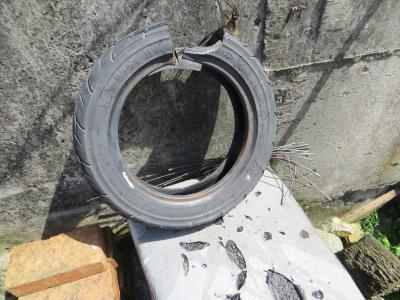tire: (70, 19, 279, 234)
